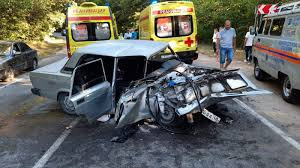car: (37, 36, 230, 139)
